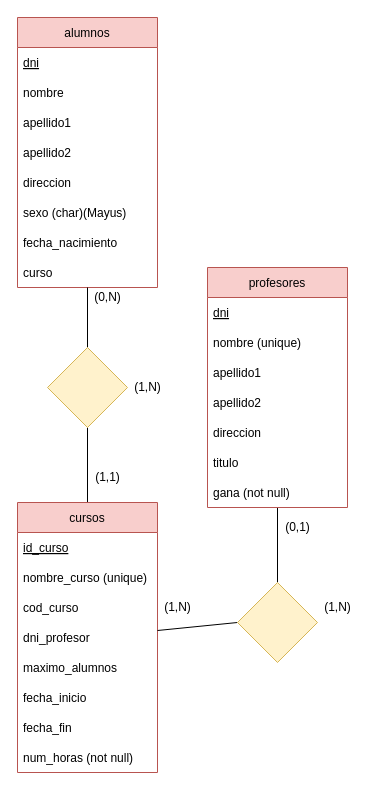
This 375x790 diagram has some shape labels left out. The shapes that lost their labels are listed below. From the top down, each one's centre as x and y in pixels, then its label:
point (87, 387): se da de alta
point (277, 622): da clase
